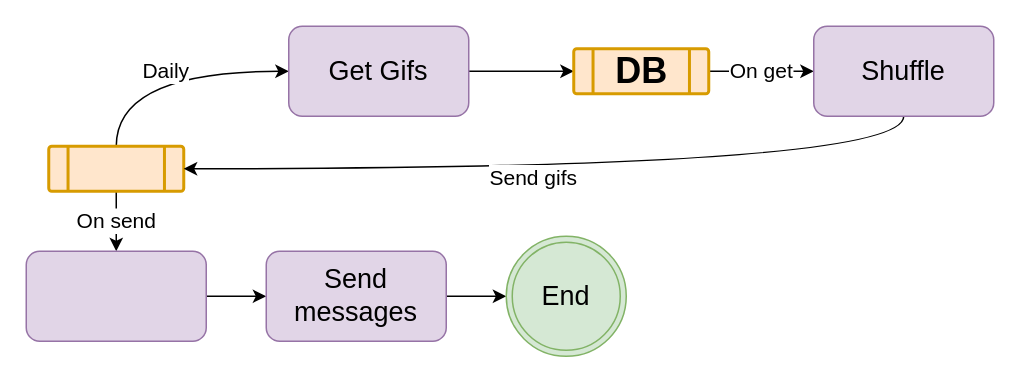
This 1020x383 diagram has some shape labels left out. Here are the shapes that lost their labels. From the top down, the box of each, then its label:
(46, 144, 184, 192): Bot
(25, 250, 206, 341): Get Channel
